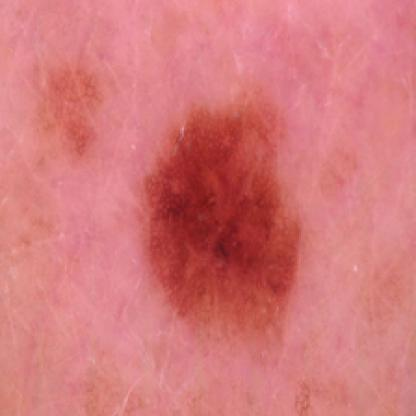benign: (150, 106, 304, 342)
